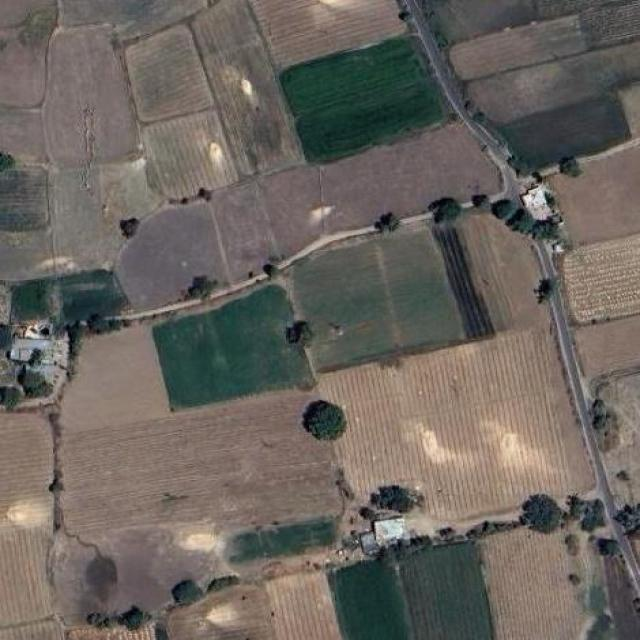land-Sx1C: (319, 328, 594, 522), (60, 394, 338, 531), (42, 24, 158, 269), (281, 36, 445, 163), (318, 122, 501, 233), (191, 0, 304, 176), (153, 285, 313, 408), (50, 525, 225, 625), (467, 42, 639, 123), (293, 241, 398, 371), (1, 412, 61, 639), (478, 528, 590, 639), (60, 324, 170, 431), (116, 204, 226, 310), (455, 210, 549, 332), (251, 0, 405, 69), (376, 229, 464, 348), (498, 97, 629, 171), (547, 145, 640, 246), (400, 542, 493, 640), (449, 17, 585, 81), (125, 25, 214, 121), (142, 110, 238, 198), (432, 225, 494, 338), (564, 234, 640, 324), (208, 180, 275, 282), (592, 366, 640, 508), (330, 560, 409, 640), (167, 585, 271, 640), (59, 1, 208, 39), (260, 166, 321, 256), (266, 571, 342, 640), (226, 518, 336, 562), (427, 0, 536, 44), (573, 315, 640, 381), (0, 29, 48, 107), (0, 168, 48, 231), (0, 226, 54, 281), (579, 0, 640, 48), (0, 105, 45, 162), (0, 0, 57, 44), (65, 622, 155, 640), (0, 619, 63, 640), (618, 81, 639, 138), (635, 248, 640, 255)
